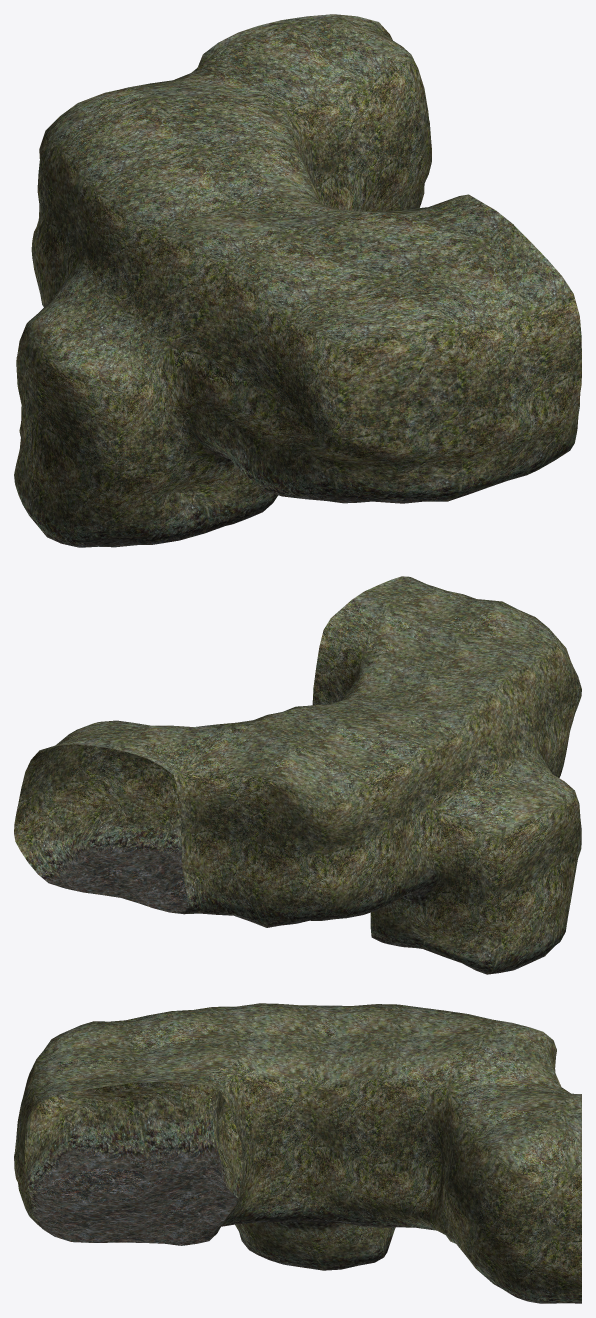
The model's file is thm_all_cave_s01_damprock_mirror_r4_mesh_r4.fbx.
3 views of the same model, one above another, from view 1: azimuth 30°, elevation 25°; view 2: azimuth 150°, elevation 25°; view 3: azimuth 270°, elevation 25° (orthographic). The views are drawn at different scales.
Visible parts, largest first — view 1: mesh_node; view 2: mesh_node; view 3: mesh_node.
Boxes of the visible parts, x1,y1,x2,y2 form: mesh_node: (14,14,581,547); mesh_node: (14,576,581,974); mesh_node: (14,1003,581,1303).
Size of the model in its own units: 59.37 by 33.41 by 66.82.
